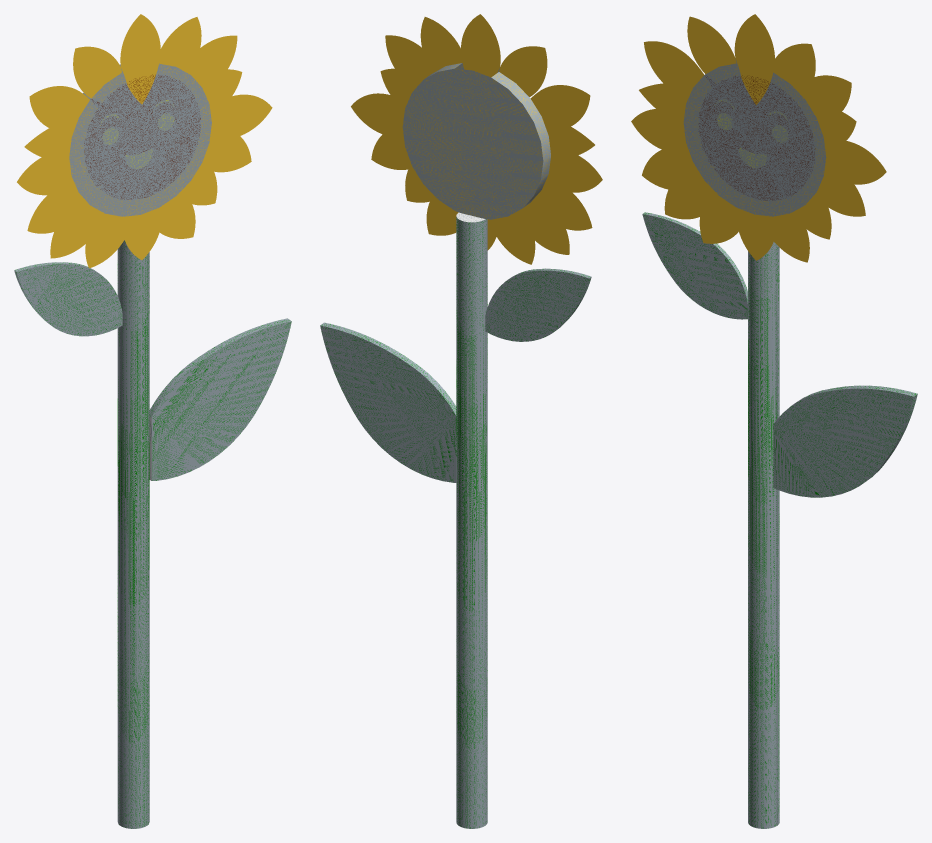
The model's file is sunflower.fbx.
3 renders of one model, left to right at view 1: azimuth 30°, elevation 25°; view 2: azimuth 150°, elevation 25°; view 3: azimuth 330°, elevation 25°, orthographic.
Parts seen in each view (by area): view 1: Model; view 2: Model; view 3: Model.
Boxes of the visible parts, x1,y1,x2,y2 form: Model: (14, 14, 291, 828); Model: (320, 14, 602, 828); Model: (631, 14, 917, 828).
Size of the model in its own units: 5.08 by 14.16 by 0.5.
